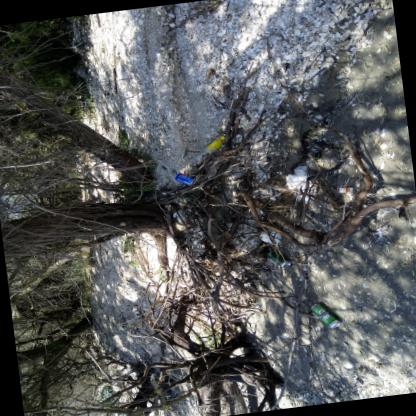Metal: (311, 302, 341, 327), (268, 250, 291, 267), (174, 172, 195, 185)
Paper: (339, 186, 353, 191)
Plastic: (285, 164, 315, 203), (192, 134, 225, 162), (260, 227, 281, 243), (220, 134, 225, 139)
